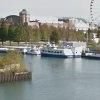Boat: (37, 37, 76, 63)
